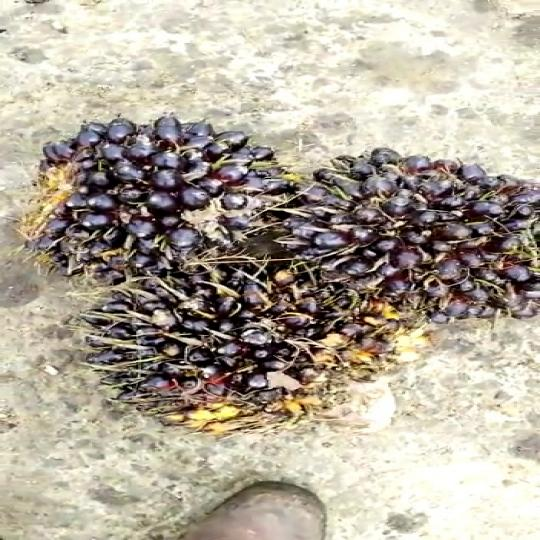mentah: (56, 261, 454, 467), (0, 87, 302, 272), (296, 125, 540, 310)
